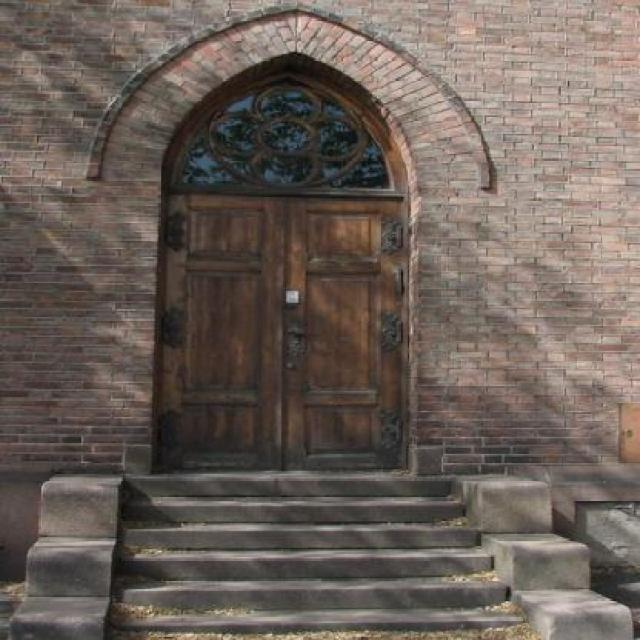stair: (40, 437, 608, 640)
